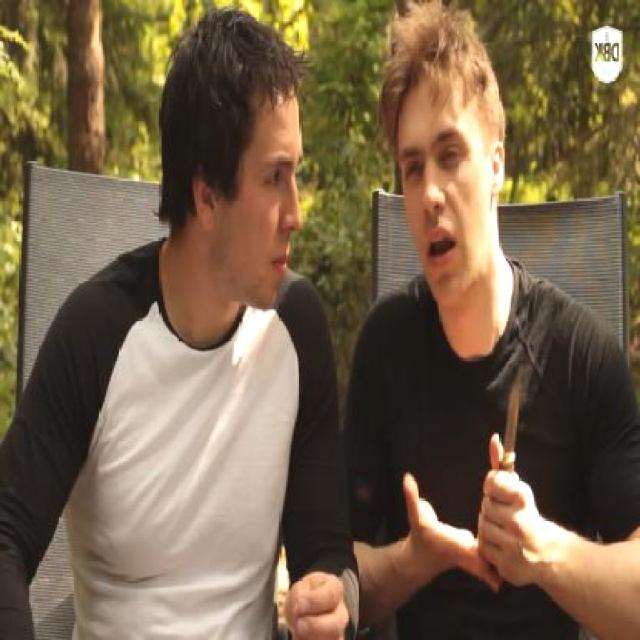knife: (472, 357, 534, 529)
